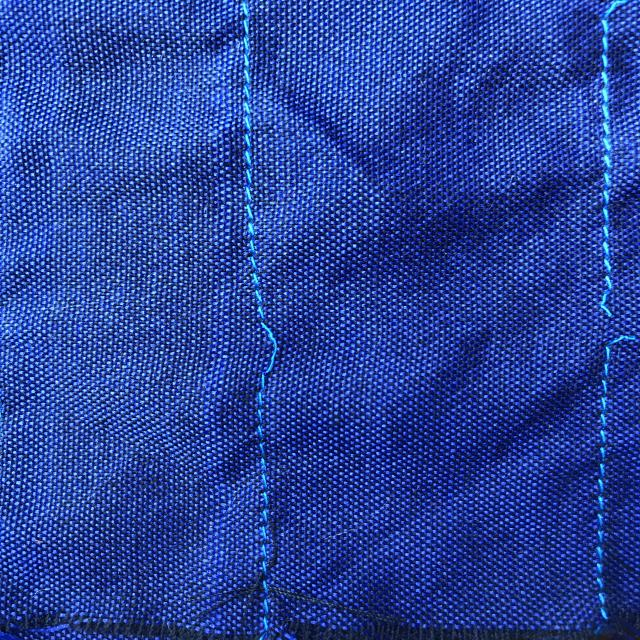broken: (565, 272, 640, 351)
good: (210, 128, 282, 272)
skip: (234, 299, 298, 397)
